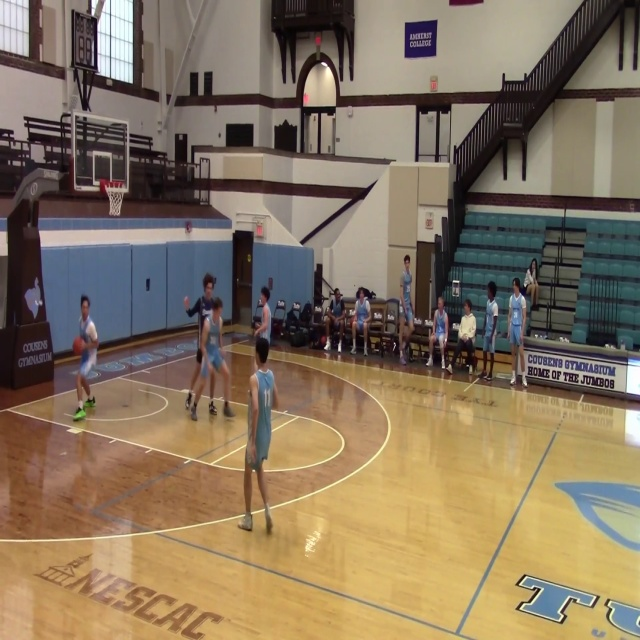Basketball: (72, 337, 86, 355), (183, 296, 189, 309)
